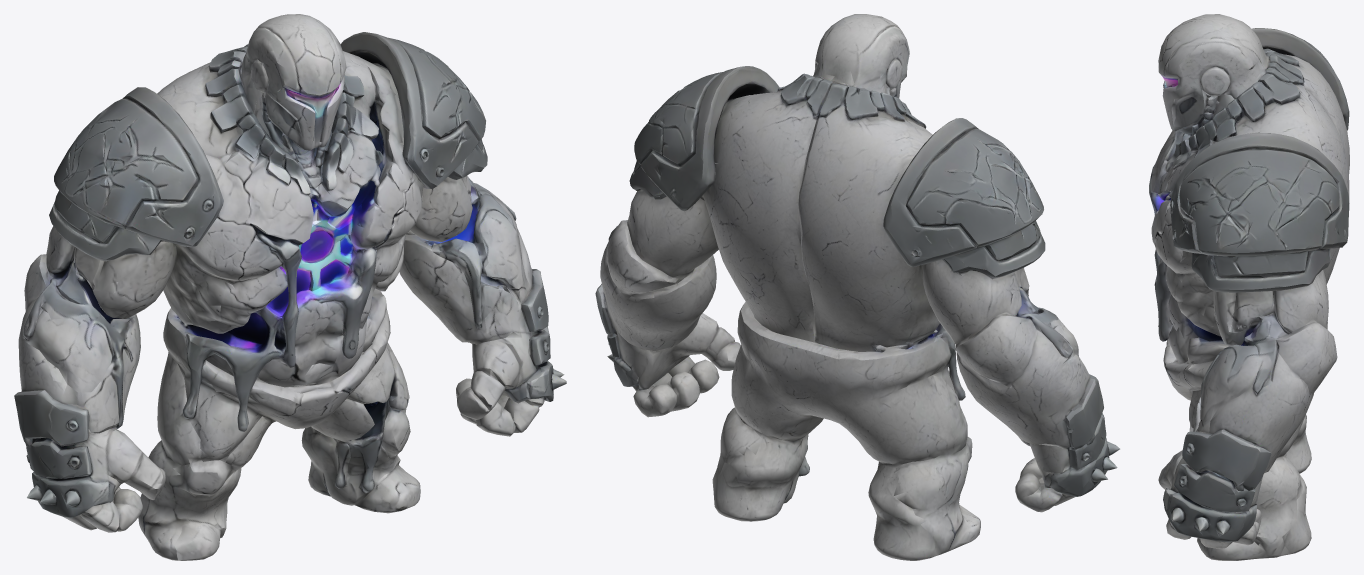
Rendered from juggernaut.glb.
3 renders of one model, left to right at view 1: azimuth 30°, elevation 25°; view 2: azimuth 150°, elevation 25°; view 3: azimuth 270°, elevation 25°, orthographic. The views are drawn at different scales.
Parts seen in each view (by area): view 1: Mesh; view 2: Mesh; view 3: Mesh.
Boxes of the visible parts, x1,y1,x2,y2 form: Mesh: (14, 14, 566, 560); Mesh: (595, 14, 1119, 560); Mesh: (1149, 14, 1349, 560).
Size of the model in its own units: 1.88 by 1.74 by 0.6547.
Materials: 1 (1 with a texture image).
